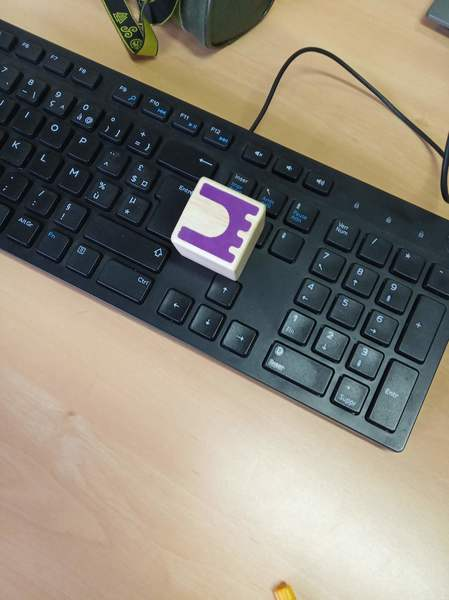violet: (173, 182, 271, 270)
